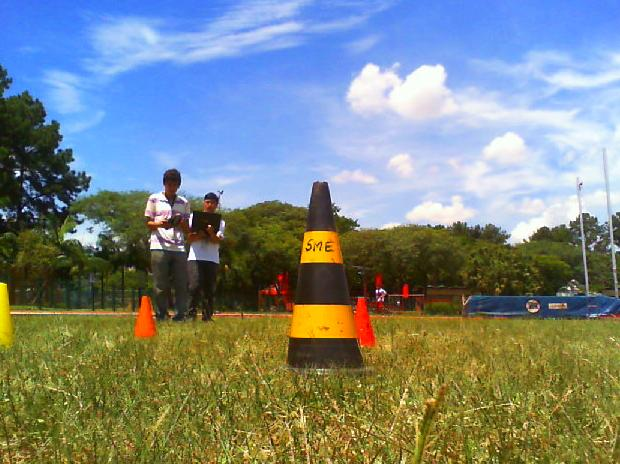0 cone: (287, 182, 363, 374), (356, 297, 377, 348), (133, 296, 157, 338), (0, 282, 13, 349)
